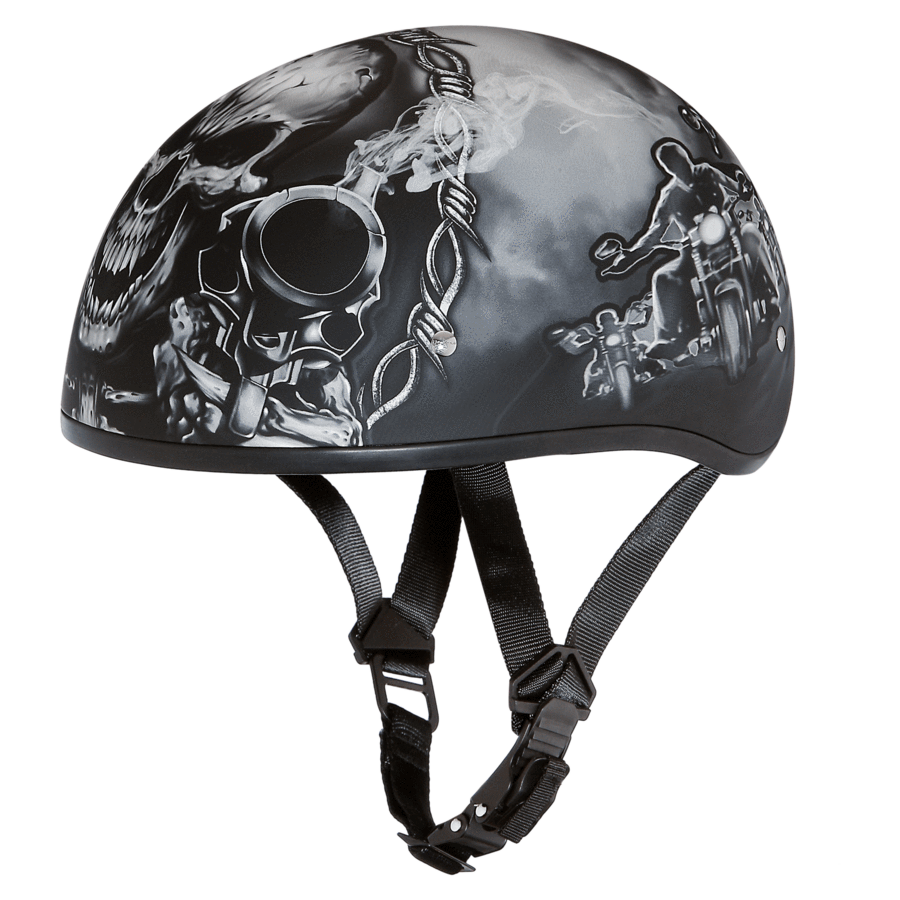with_helmet: (57, 20, 812, 883)
